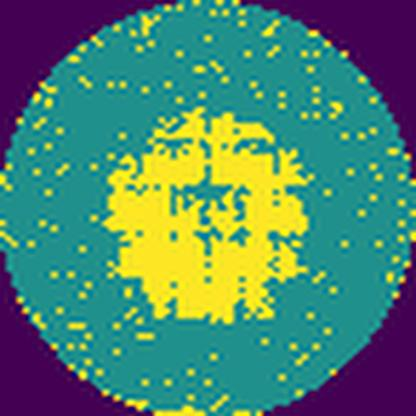Center: (109, 112, 308, 324)
